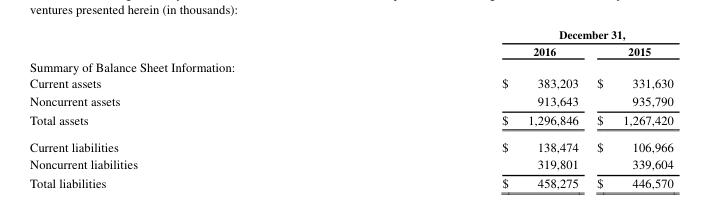table: (29, 29, 672, 190)
table column: (29, 29, 319, 190), (319, 29, 587, 190), (587, 29, 672, 190)
table column header: (29, 29, 672, 59)
table projected row header: (29, 59, 672, 75)
table row: (29, 111, 672, 133), (29, 133, 672, 155), (29, 92, 672, 111), (29, 155, 672, 174), (29, 75, 672, 92), (29, 43, 672, 59), (29, 59, 672, 75), (29, 174, 672, 190), (29, 29, 672, 43)
table spanning cell: (319, 29, 672, 43)
